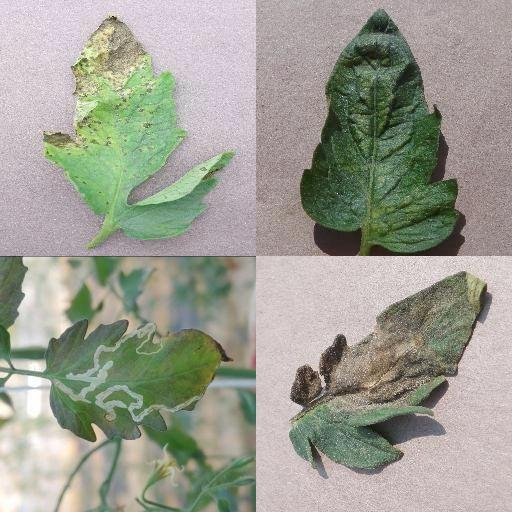Late Blight: (289, 271, 487, 471)
Leaf Miner: (43, 318, 236, 444)
Septoria: (44, 18, 235, 242)
Spider Mites: (300, 7, 458, 253)
